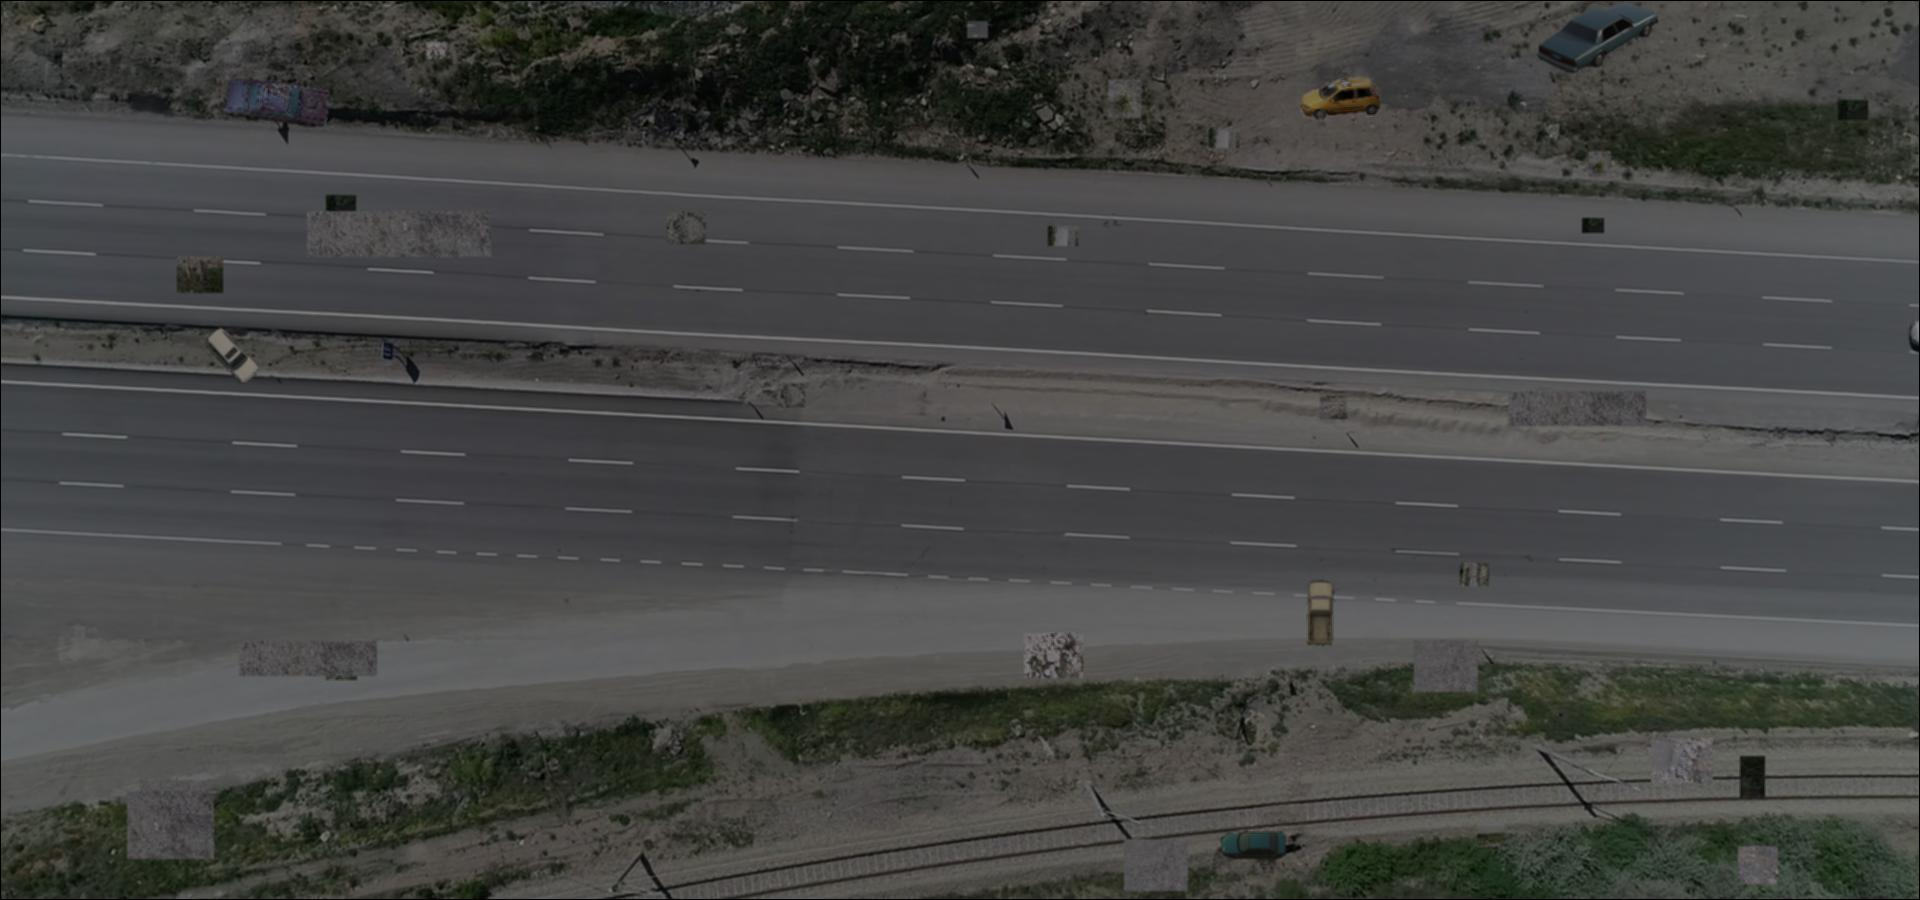arac: (1531, 1, 1660, 73), (222, 73, 331, 131), (1300, 78, 1384, 119), (204, 323, 260, 383), (1304, 579, 1336, 648), (1220, 830, 1291, 860)
